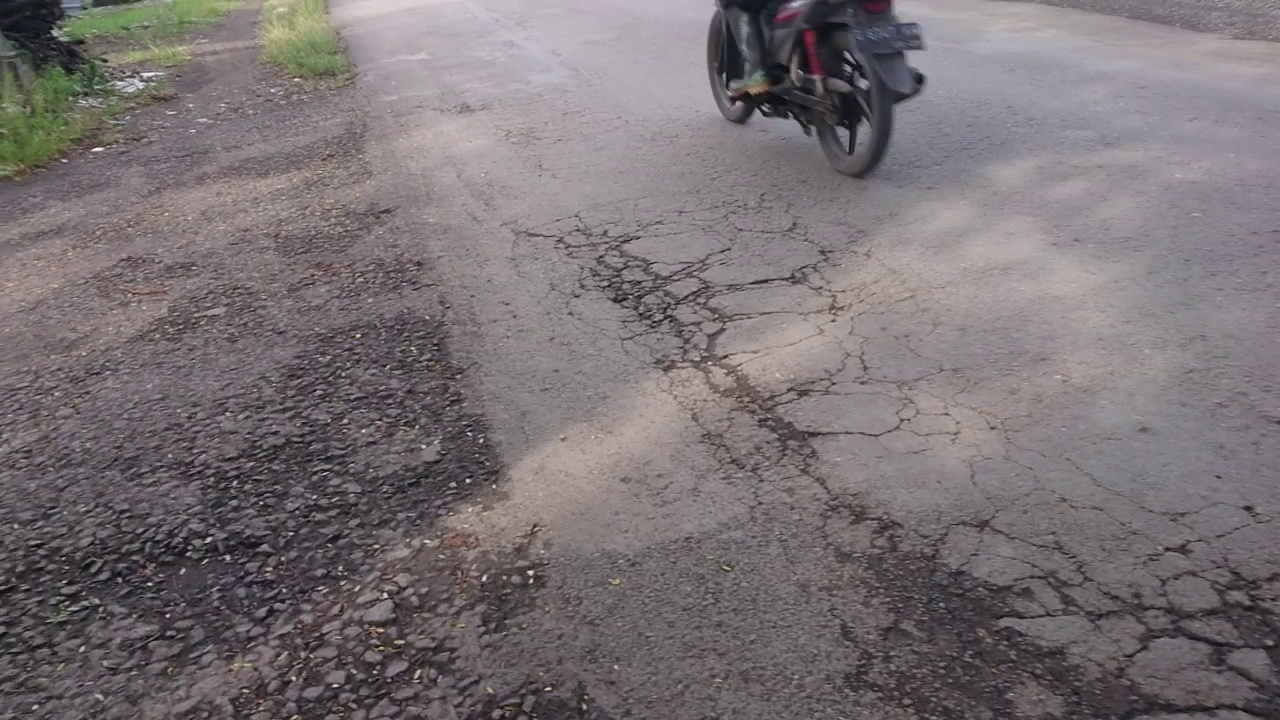Retak: (853, 518, 1280, 720), (593, 243, 870, 487)
